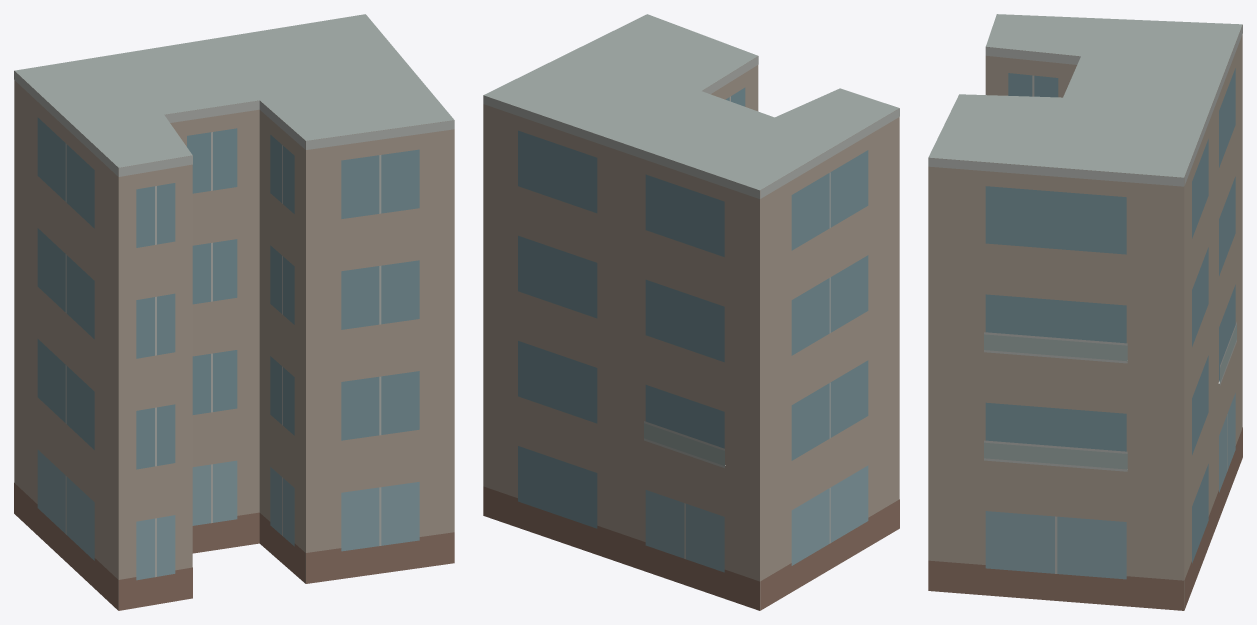
Rendered from survey-upis-32469725.glb.
The picture shows the model from 3 angles, left to right: view 1: azimuth 30°, elevation 25°; view 2: azimuth 150°, elevation 25°; view 3: azimuth 270°, elevation 25°; orthographic projection. The views are drawn at different scales.
Visible parts, largest first — view 1: survey-upis-32469725.tmp; view 2: survey-upis-32469725.tmp; view 3: survey-upis-32469725.tmp.
Boxes of the visible parts, x1,y1,x2,y2 form: survey-upis-32469725.tmp: (14,14,454,610); survey-upis-32469725.tmp: (483,14,899,610); survey-upis-32469725.tmp: (928,14,1242,610).
Bounding box in the file's own units: 9.49 × 11.7 × 7.71.
